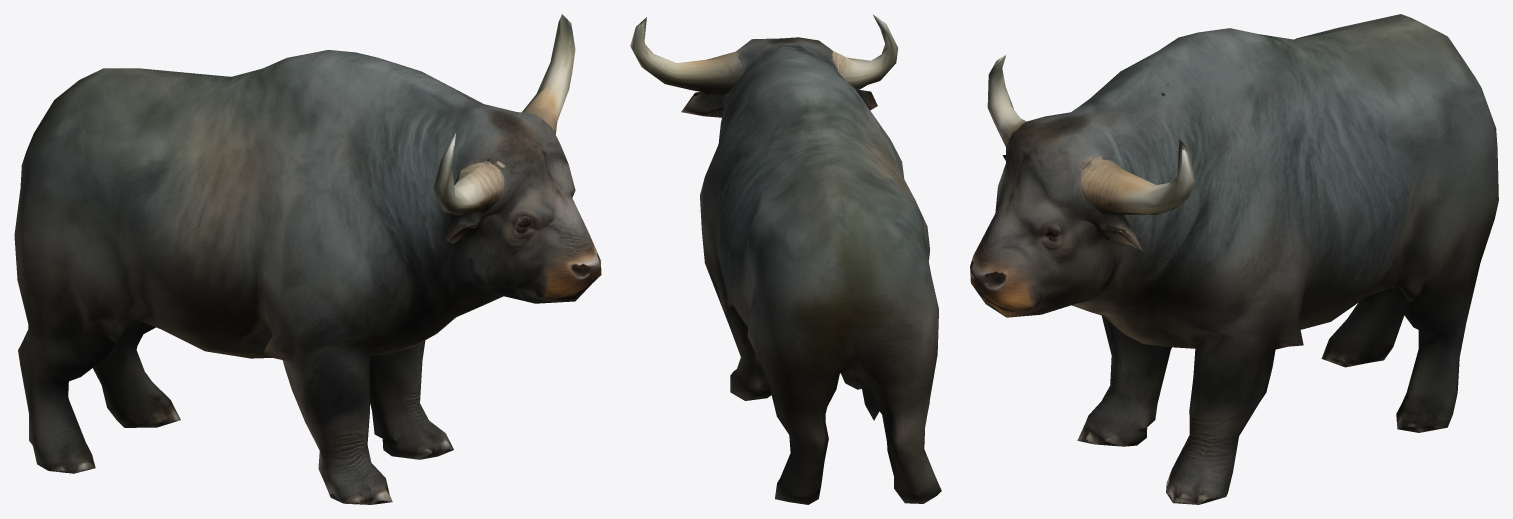
Rendered from ravager_single_1500.glb.
3 renders of one model, left to right at view 1: azimuth 30°, elevation 25°; view 2: azimuth 150°, elevation 25°; view 3: azimuth 270°, elevation 25°, orthographic. The views are drawn at different scales.
Bounding box in the file's own units: 0.9177 × 0.8094 × 0.8888.
1 material, 1 textured.
